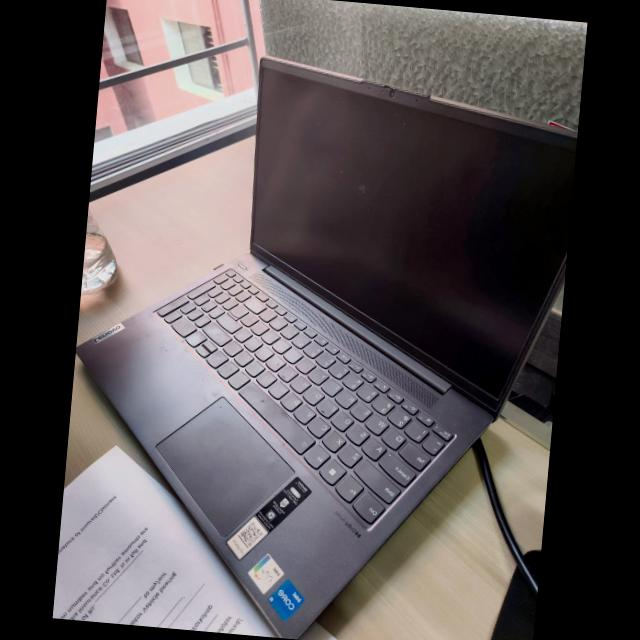laptop: (76, 39, 578, 632)
